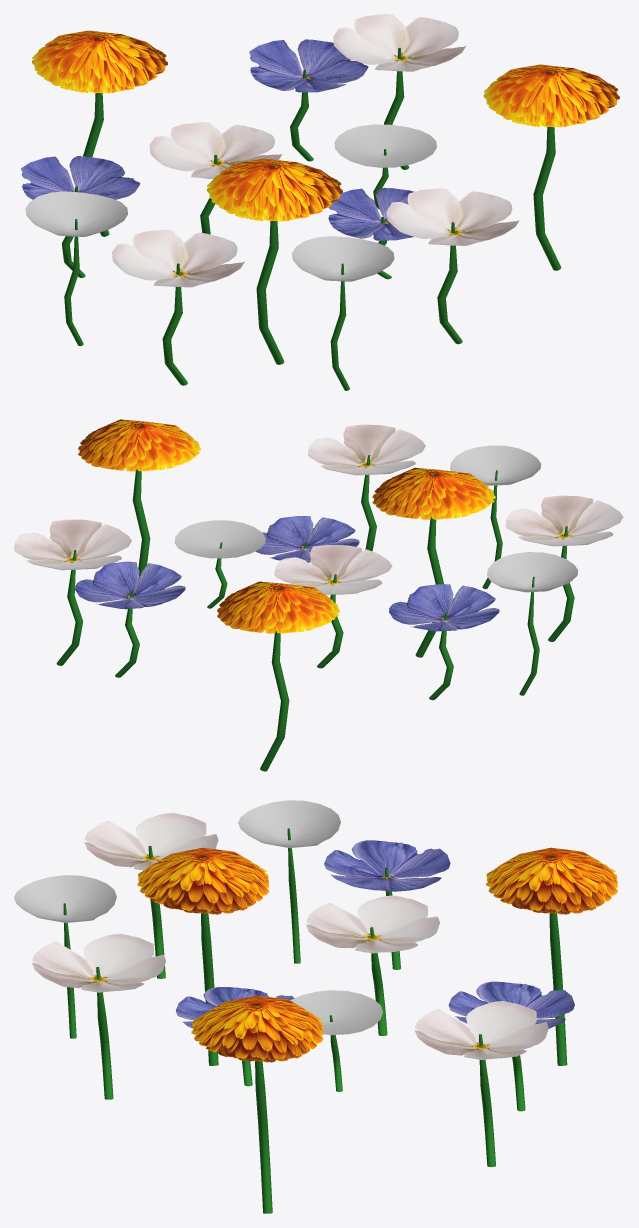
The model's file is Flower_patch.fbx.
The picture shows the model from 3 angles, top to bottom: view 1: azimuth 30°, elevation 25°; view 2: azimuth 150°, elevation 25°; view 3: azimuth 270°, elevation 25°; orthographic projection. The views are drawn at different scales.
Visible parts, largest first — view 1: pCylinder1 (×13), Flower13 (×9); view 2: pCylinder1 (×13), Flower13 (×11); view 3: pCylinder1 (×13), Flower13 (×9).
Boxes of the visible parts, x1,y1,x2,y2 form: pCylinder1 (×13): [21, 14, 619, 287]; Flower13 (×9): [64, 48, 561, 390]; pCylinder1 (×13): [14, 419, 623, 633]; Flower13 (×11): [56, 455, 574, 771]; pCylinder1 (×13): [14, 800, 617, 1062]; Flower13 (×9): [63, 828, 567, 1213].
Bounding box in the file's own units: 4.32 × 1.48 × 4.05.
